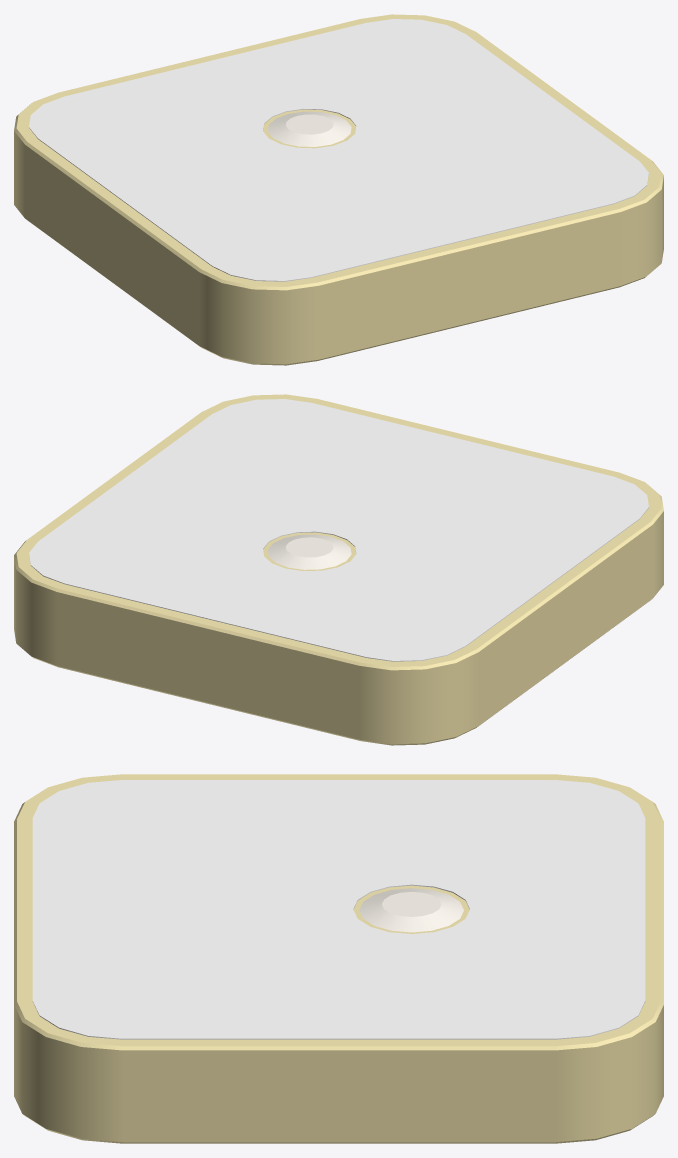
The picture shows the model from 3 angles, top to bottom: view 1: azimuth 30°, elevation 25°; view 2: azimuth 150°, elevation 25°; view 3: azimuth 270°, elevation 25°; orthographic projection. The views are drawn at different scales.
Visible parts, largest first — view 1: mesh8982, mesh9010, mesh9002, mesh8991, mesh9008, mesh9013, mesh8979, mesh9009, mesh8996, mesh8997, mesh8978, mesh8980 (+1 smaller); view 2: mesh8982, mesh8995, mesh9002, mesh8991, mesh8997, mesh8999, mesh8979, mesh8992, mesh8996, mesh9008, mesh8978, mesh8980 (+1 smaller); view 3: mesh8982, mesh9005, mesh8991, mesh8999, mesh9013, mesh8979, mesh8998, mesh8978, mesh8980, mesh9014, mesh8988, mesh8994 (+3 smaller).
Boxes of the visible parts, left/top/right/bottom form: mesh8982: left=29, top=19, right=648, bottom=280; mesh9010: left=319, top=212, right=620, bottom=359; mesh9002: left=25, top=145, right=199, bottom=345; mesh8991: left=16, top=14, right=661, bottom=286; mesh9008: left=199, top=272, right=318, bottom=364; mesh9013: left=621, top=176, right=663, bottom=285; mesh8979: left=268, top=111, right=351, bottom=146; mesh9009: left=318, top=209, right=620, bottom=285; mesh8996: left=25, top=142, right=201, bottom=271; mesh8997: left=14, top=131, right=24, bottom=217; mesh8978: left=286, top=114, right=333, bottom=134; mesh8980: left=263, top=109, right=356, bottom=148; mesh8982: left=29, top=399, right=648, bottom=660; mesh8995: left=57, top=592, right=358, bottom=739; mesh9002: left=478, top=525, right=652, bottom=725; mesh8991: left=16, top=394, right=661, bottom=666; mesh8997: left=359, top=652, right=478, bottom=744; mesh8999: left=14, top=556, right=56, bottom=665; mesh8979: left=268, top=534, right=351, bottom=569; mesh8992: left=57, top=589, right=359, bottom=665; mesh8996: left=476, top=522, right=652, bottom=651; mesh9008: left=653, top=511, right=663, bottom=597; mesh8978: left=286, top=537, right=333, bottom=557; mesh8980: left=263, top=532, right=356, bottom=570; mesh8982: left=32, top=780, right=645, bottom=1038; mesh9005: left=122, top=1050, right=555, bottom=1142; mesh8991: left=17, top=774, right=660, bottom=1046; mesh8999: left=555, top=1005, right=663, bottom=1142; mesh9013: left=14, top=1005, right=122, bottom=1142; mesh8979: left=359, top=888, right=463, bottom=932; mesh8998: left=122, top=1046, right=555, bottom=1050; mesh8978: left=382, top=891, right=441, bottom=916; mesh8980: left=353, top=885, right=469, bottom=933; mesh9014: left=122, top=1142, right=555, bottom=1143; mesh8988: left=122, top=1038, right=555, bottom=1039; mesh8994: left=555, top=1002, right=663, bottom=1050.
Size of the model in its own units: 0.025 by 0.00439 by 0.025.
